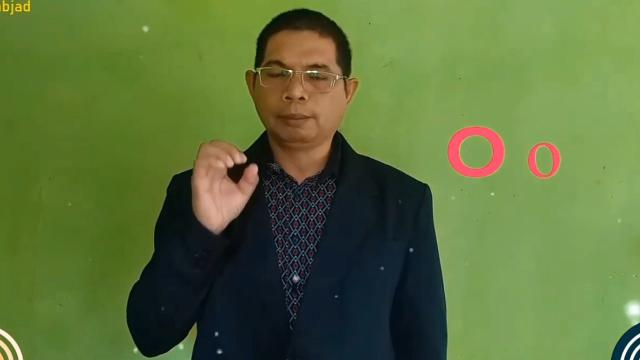O: (190, 139, 260, 227)
